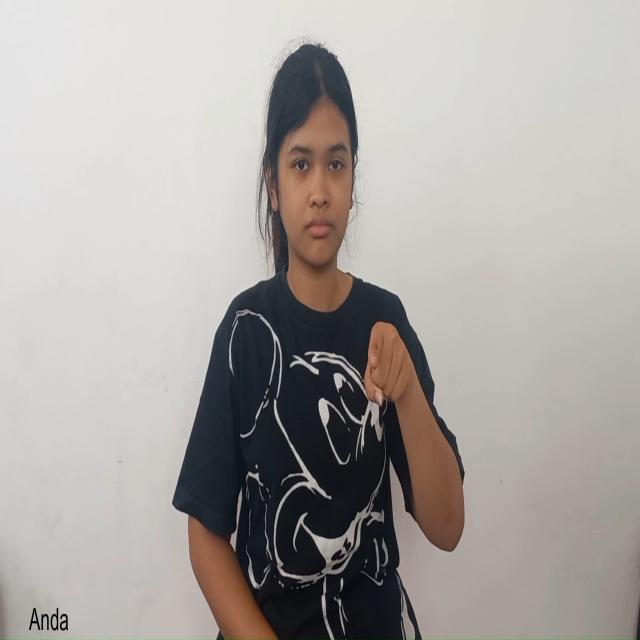Anda -BISINDO-: (317, 249, 460, 482)
